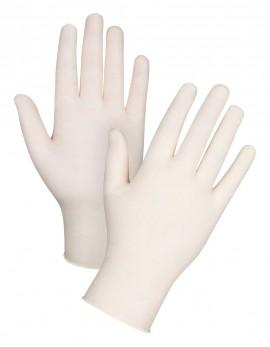gloves: (15, 14, 257, 335)
